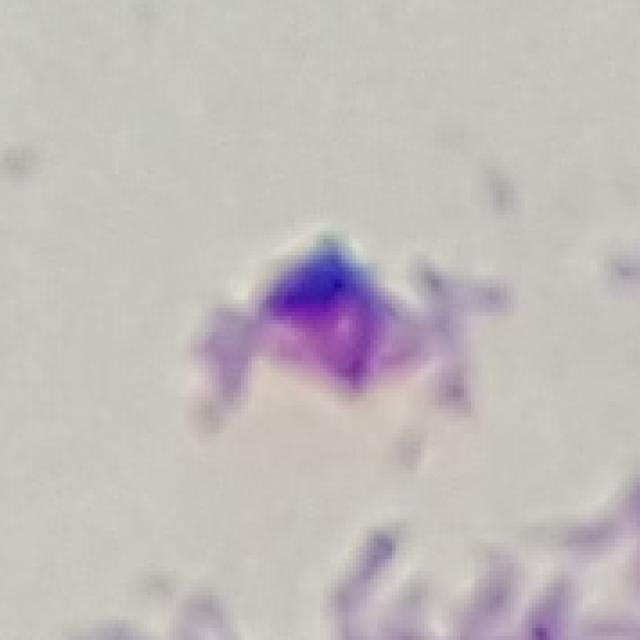non-sperm: (205, 230, 470, 412)
